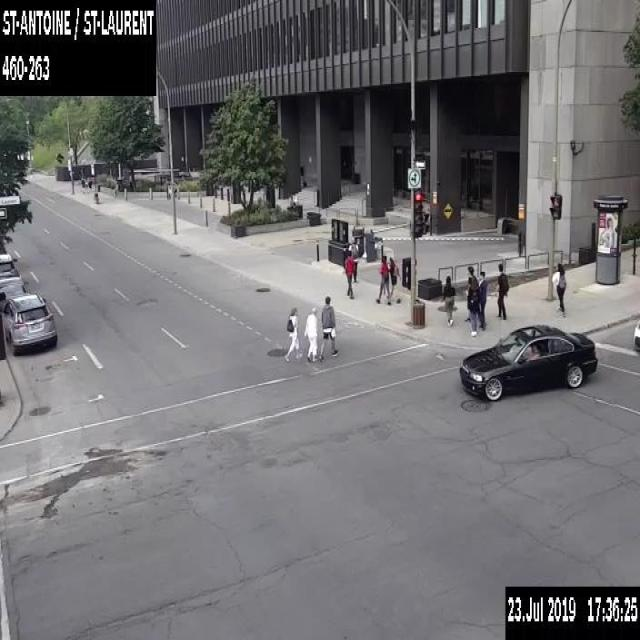pedestrian: (317, 295, 340, 361), (283, 307, 302, 361), (304, 306, 320, 361), (466, 274, 479, 334), (386, 255, 401, 304), (375, 254, 390, 302), (496, 261, 508, 319), (464, 265, 476, 321), (442, 273, 454, 327), (344, 248, 356, 298), (556, 262, 566, 318), (477, 270, 486, 330), (348, 235, 358, 282), (80, 175, 85, 192), (87, 175, 92, 192)
vehicle: (458, 322, 596, 402), (1, 291, 57, 354), (0, 274, 29, 314), (0, 252, 19, 279), (632, 317, 639, 347)
